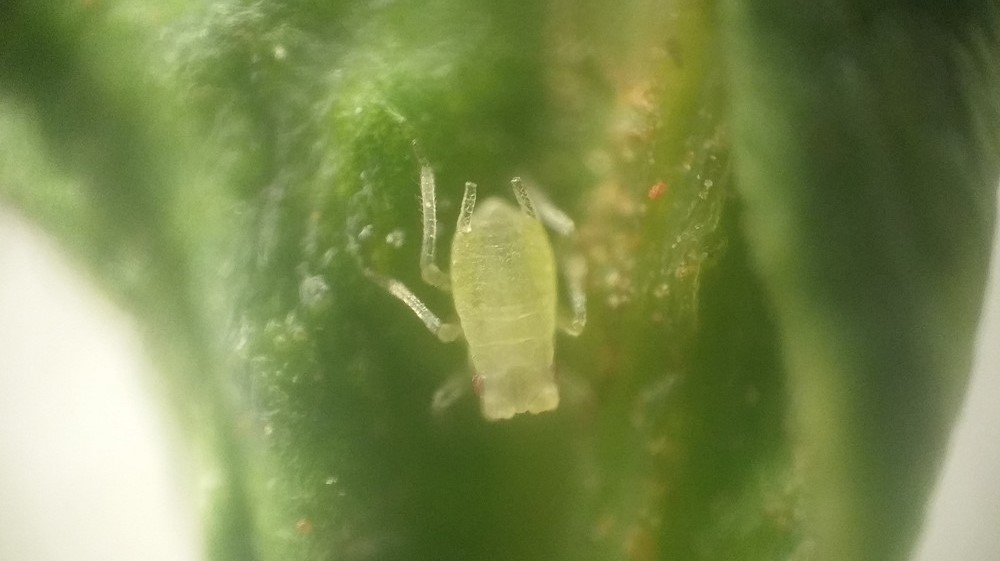Pulgon: (375, 148, 618, 445)
